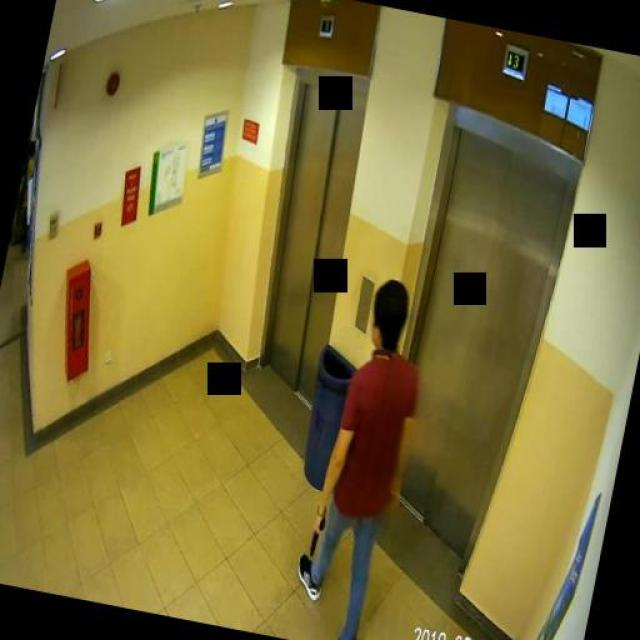gun: (308, 506, 328, 555)
